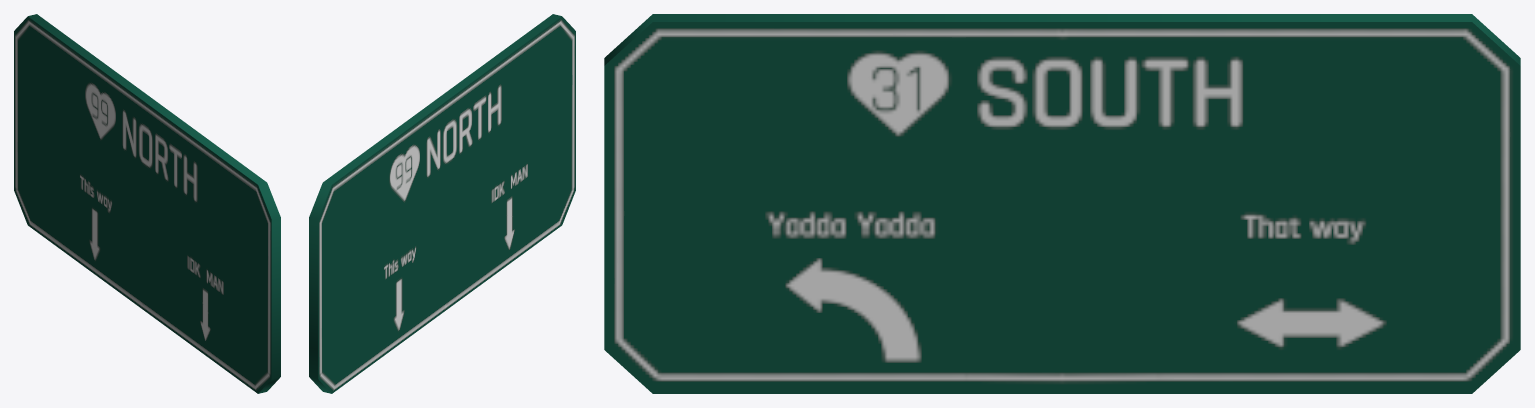
Rendered from HighwayOverheadSign.glb.
The picture shows the model from 3 angles, left to right: view 1: azimuth 30°, elevation 25°; view 2: azimuth 150°, elevation 25°; view 3: azimuth 270°, elevation 25°; orthographic projection. The views are drawn at different scales.
Visible parts, largest first — view 1: HighwayOverheadSign; view 2: HighwayOverheadSign; view 3: HighwayOverheadSign.
Boxes of the visible parts, x1,y1,x2,y2 form: HighwayOverheadSign: (14,14,280,393); HighwayOverheadSign: (309,14,575,393); HighwayOverheadSign: (604,14,1520,393).
Size of what is drawn, in the model's own units: 0.1437 by 3.12 by 6.97.
Materials: 1 (1 with a texture image).
